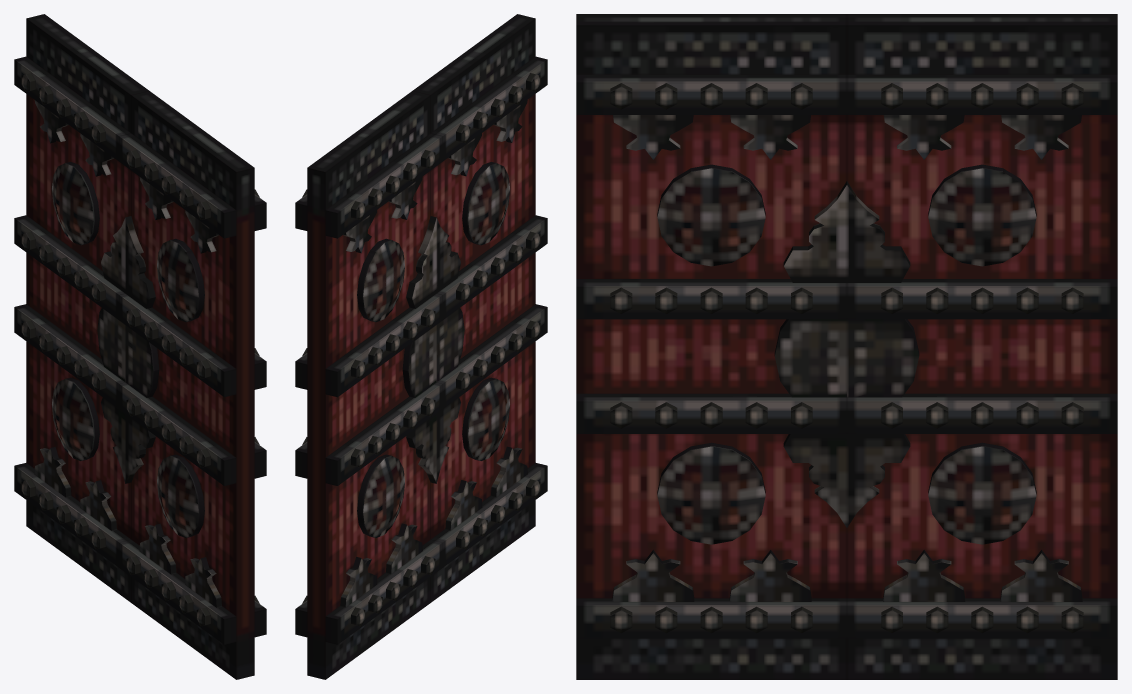
Rendered from EnvBdgMD_Desert_Gate_A_Door_Close.FBX.
The picture shows the model from 3 angles, left to right: view 1: azimuth 30°, elevation 25°; view 2: azimuth 150°, elevation 25°; view 3: azimuth 270°, elevation 25°; orthographic projection. The views are drawn at different scales.
Parts seen in each view (by area): view 1: EnvBdgMD_Desert_Gate_A_Door_Close; view 2: EnvBdgMD_Desert_Gate_A_Door_Close; view 3: EnvBdgMD_Desert_Gate_A_Door_Close.
Boxes of the visible parts, x1,y1,x2,y2 form: EnvBdgMD_Desert_Gate_A_Door_Close: (14, 14, 266, 679); EnvBdgMD_Desert_Gate_A_Door_Close: (295, 14, 547, 679); EnvBdgMD_Desert_Gate_A_Door_Close: (576, 14, 1117, 679).
Bounding box in the file's own units: 49.4 × 400 × 300.
